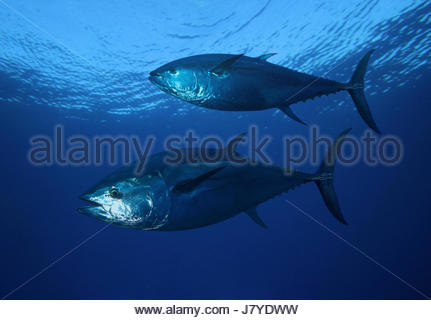Bluefina Tuna: (136, 30, 380, 138), (77, 147, 373, 232)
